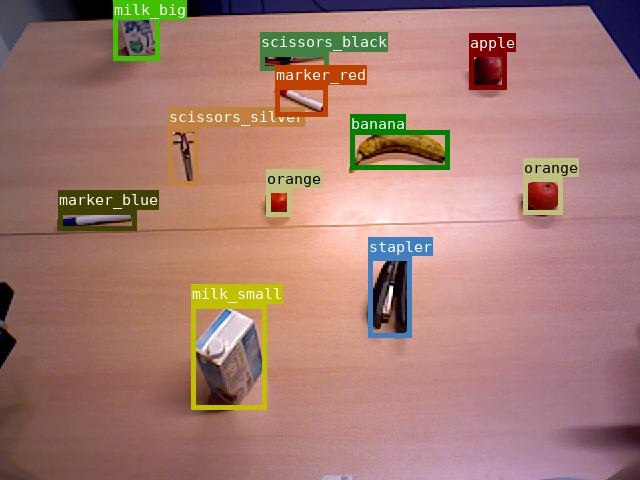apple: (469, 52, 506, 89)
banana: (350, 130, 449, 169)
marker_blue: (58, 210, 136, 230)
marker_red: (275, 85, 327, 116)
milk_big: (113, 0, 159, 60)
milk_small: (191, 304, 266, 409)
orange: (523, 177, 562, 214), (266, 188, 291, 216)
scissors_black: (260, 52, 328, 70)
scissors_silver: (168, 127, 198, 185)
stapler: (368, 256, 411, 337)
